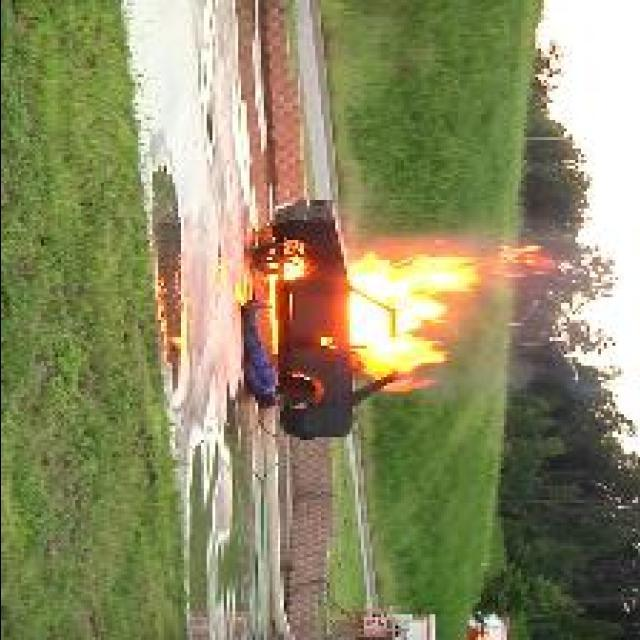Fire: (349, 247, 557, 390)
